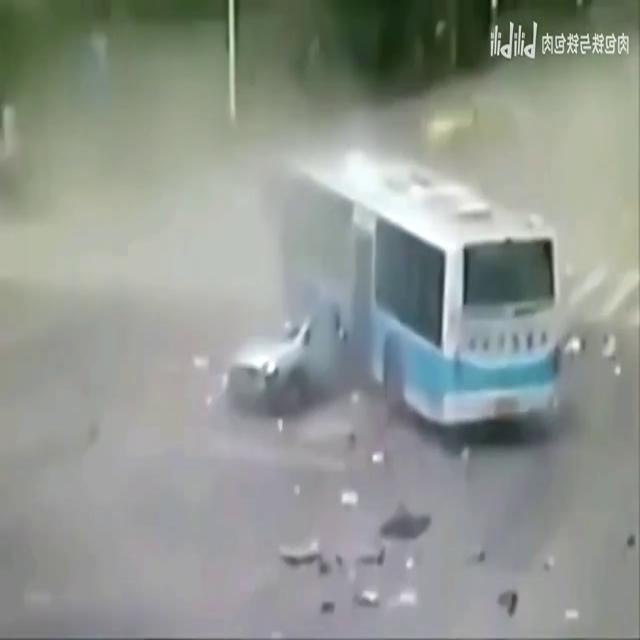accident: (220, 152, 560, 426)
